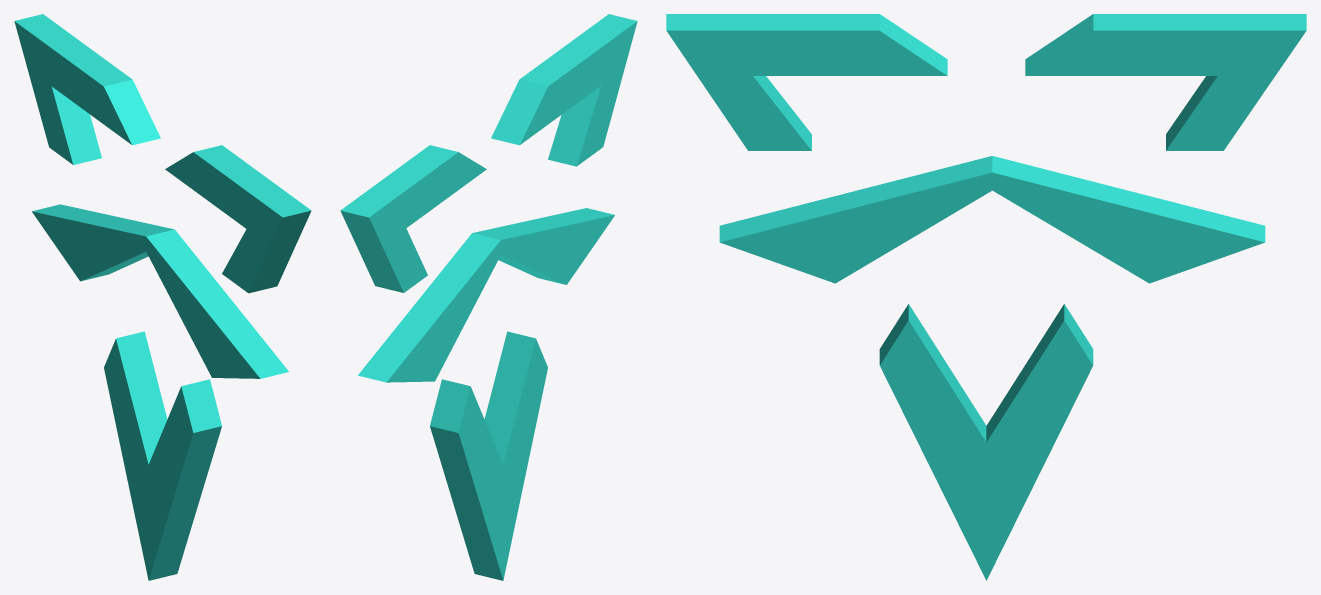
The model's file is Pattern3.FBX.
3 views of the same model, side by side, from view 1: azimuth 30°, elevation 25°; view 2: azimuth 150°, elevation 25°; view 3: azimuth 270°, elevation 25° (orthographic). The views are drawn at different scales.
Parts seen in each view (by area): view 1: Pattern3; view 2: Pattern3; view 3: Pattern3.
Boxes of the visible parts, x1,y1,x2,y2 form: Pattern3: [14, 14, 311, 580]; Pattern3: [340, 14, 637, 580]; Pattern3: [666, 14, 1306, 580].
Size of the model in its own units: 1.35 by 20.66 by 21.78.
